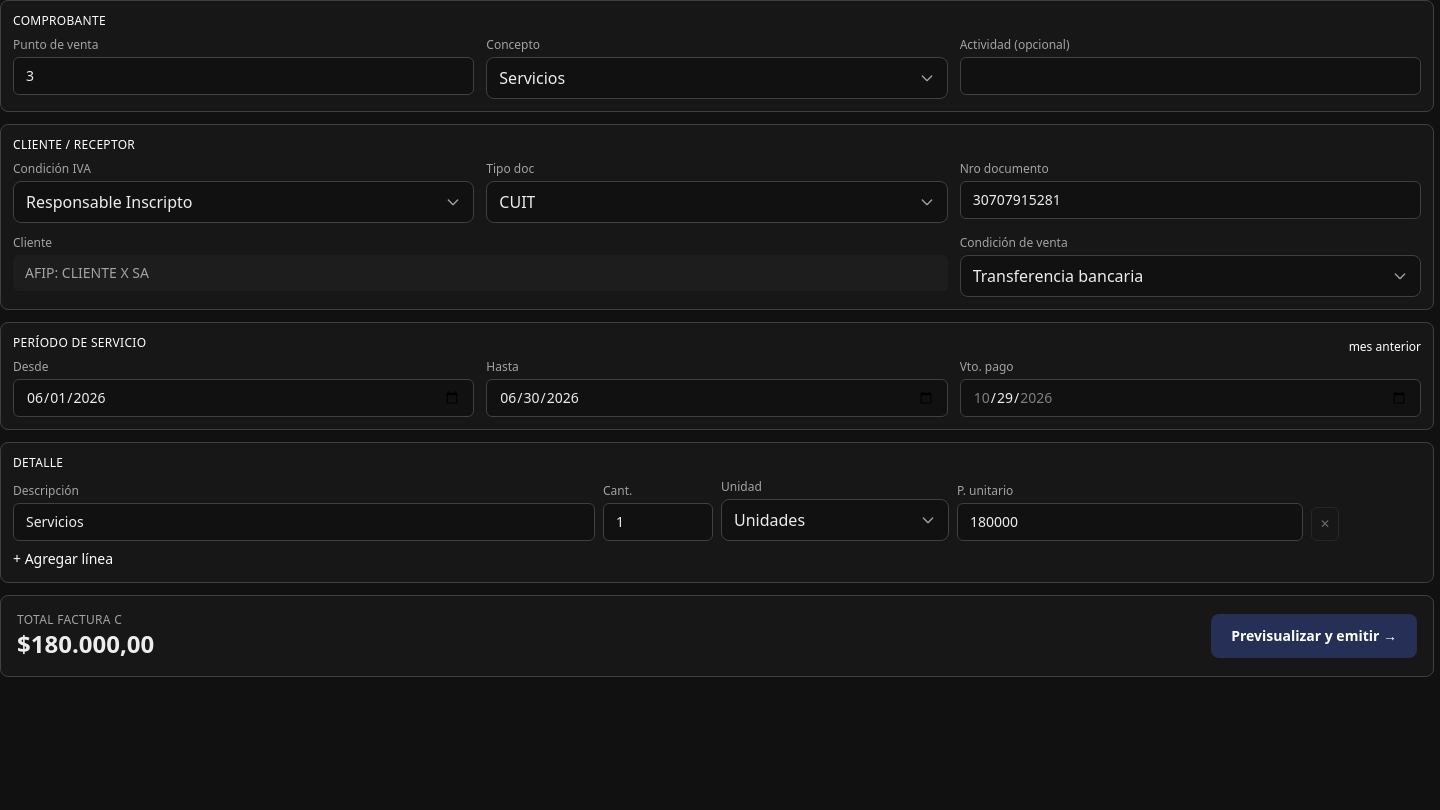
it: EmissionForm › agrega y quita líneas
Click the button "+ Agregar línea". click: point(63, 559)
box: [13,549,113,569]
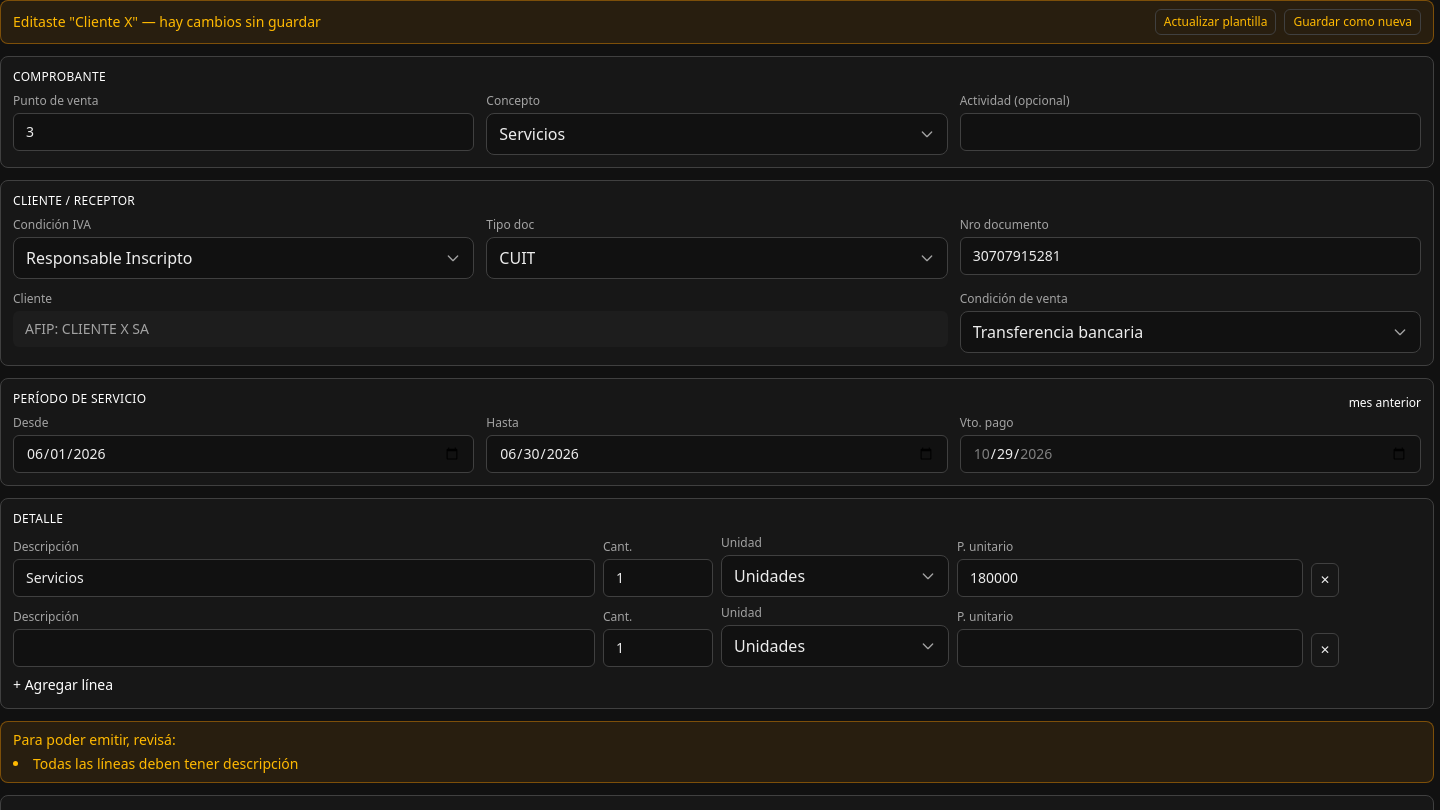
Expected: the number field with test id "linea-precio-1" is shown, [957,629,1303,667]
Click the button with test id "linea-remove-1". click: point(1325, 650)
box: [1311,633,1339,667]
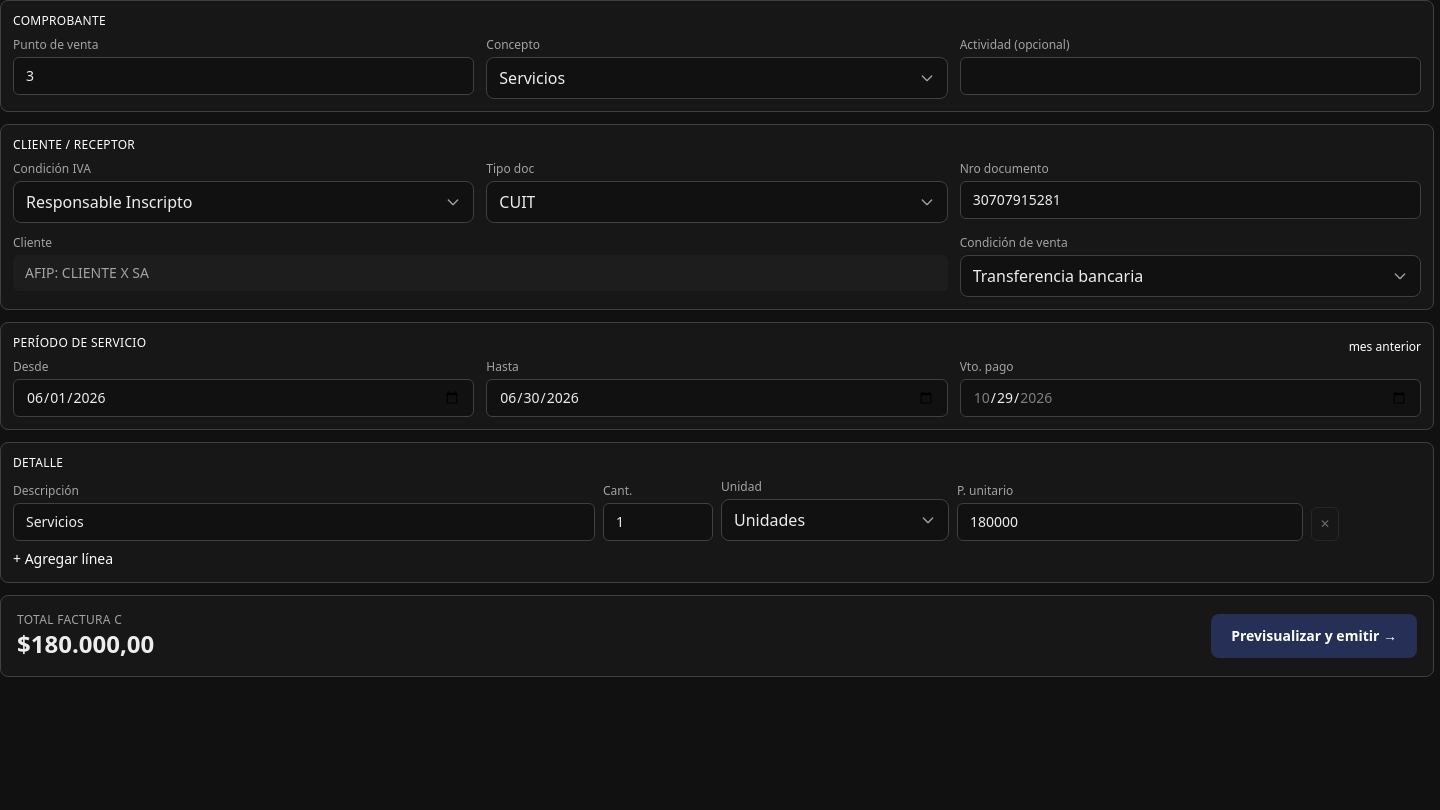
Expected: the number field with test id "linea-precio-1" is gone
